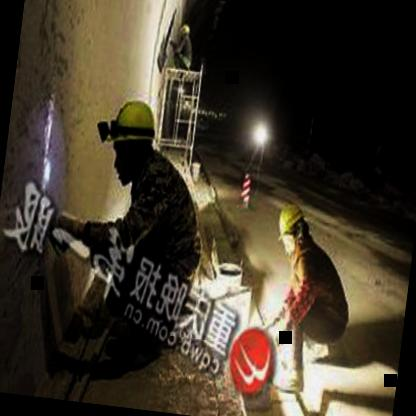helmet: (103, 93, 162, 178), (270, 200, 314, 262)
